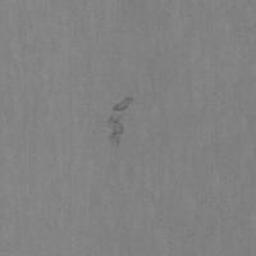Inclusion: (108, 95, 137, 143)
